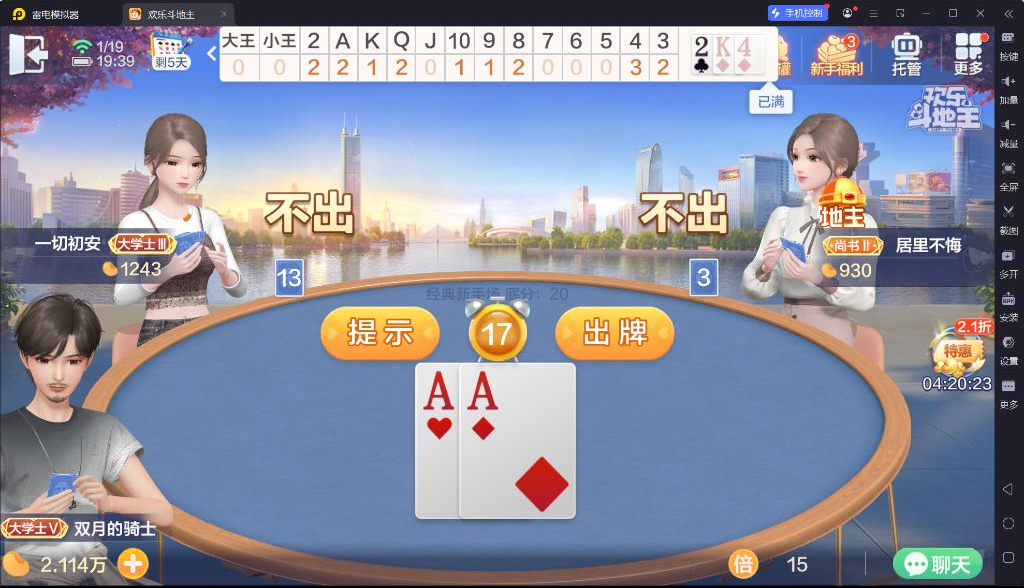A: (464, 368, 500, 412), (422, 367, 456, 412)
K: (715, 36, 732, 58)
four: (736, 36, 753, 58)
two: (694, 36, 709, 57)
